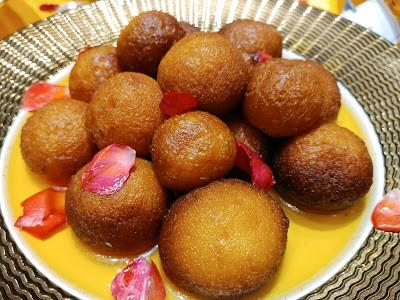GulabJamun: (159, 179, 289, 297), (272, 123, 378, 214), (65, 157, 166, 251), (242, 59, 341, 139), (158, 30, 249, 106), (84, 72, 167, 153), (145, 114, 232, 188), (19, 99, 96, 182), (117, 10, 186, 67), (220, 18, 282, 68), (72, 42, 122, 101)
